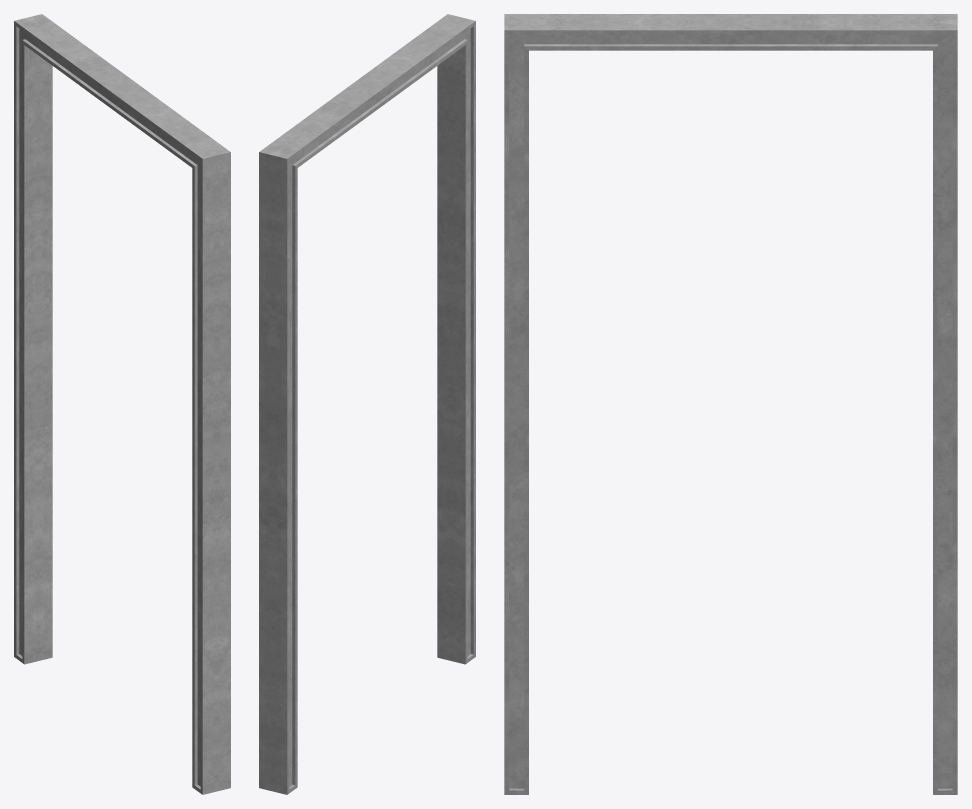
Rendered from SM_door_frame.fbx.
3 renders of one model, left to right at view 1: azimuth 30°, elevation 25°; view 2: azimuth 150°, elevation 25°; view 3: azimuth 270°, elevation 25°, orthographic. The views are drawn at different scales.
Parts seen in each view (by area): view 1: SM_door_frame_LOD0; view 2: SM_door_frame_LOD0; view 3: SM_door_frame_LOD0.
Part boxes in pixels (x1=…): SM_door_frame_LOD0: x1=14, y1=14, x2=230, y2=794; SM_door_frame_LOD0: x1=259, y1=14, x2=475, y2=794; SM_door_frame_LOD0: x1=504, y1=14, x2=957, y2=794.
Size of the model in its own units: 36.73 by 427 by 795.
